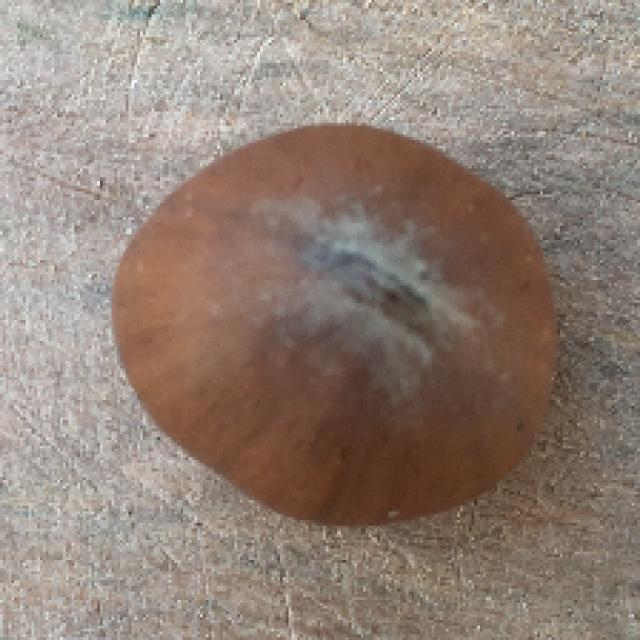DamagedHazelnut: (105, 129, 557, 528)
